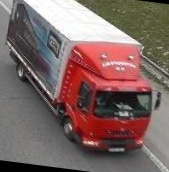truck: (0, 0, 169, 159)
